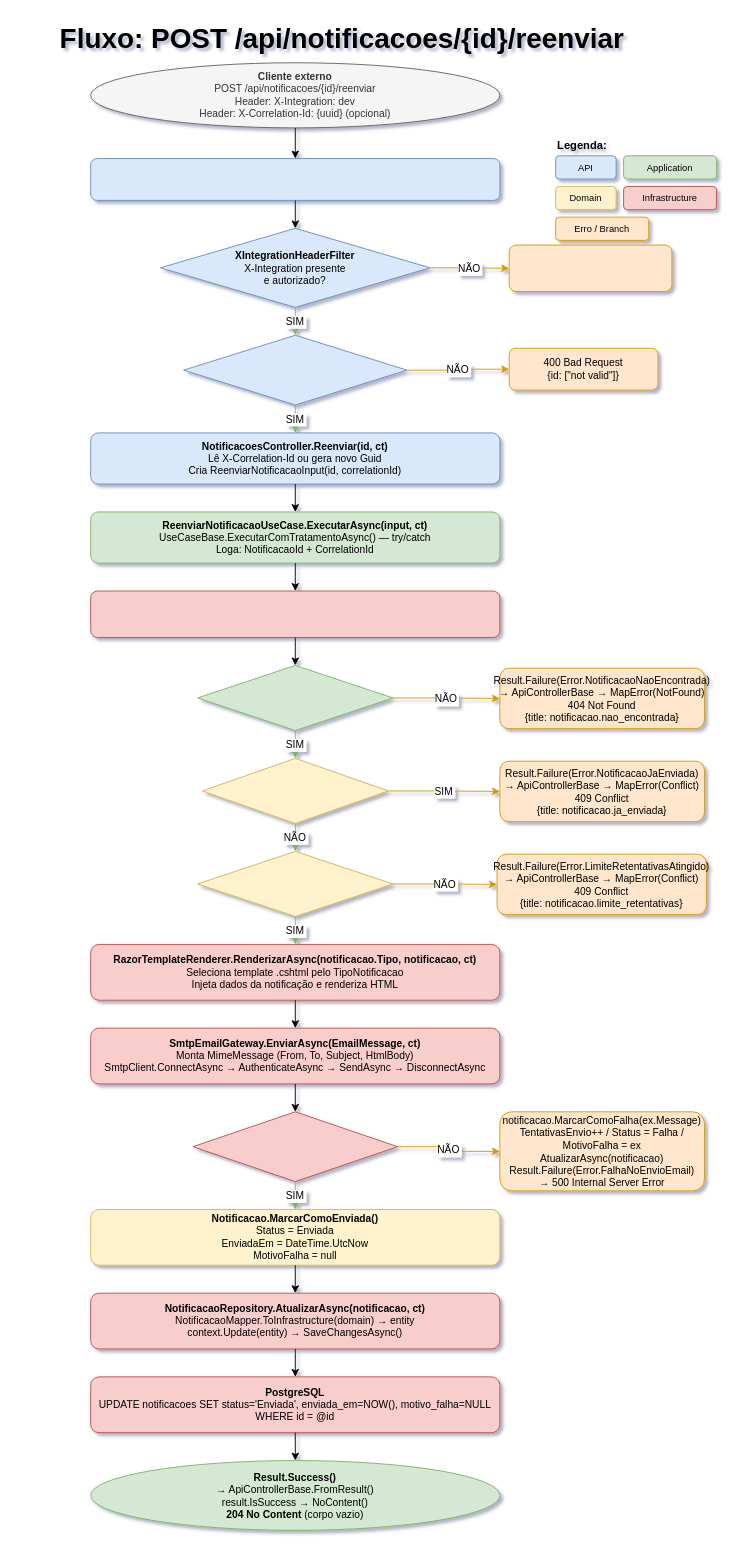
Image size: 738x1552. Some labels were removed from this diagram. The shapes that lost their labels are listed below. From the top down, each one's centre as x and y in pixels, then its label:
At (x=295, y=179): "ExceptionHandlingMiddleware Envolve toda a cadeia".
At (x=590, y=268): "400 Bad Request {error: ausente/não autorizado}".
At (x=295, y=369): "Model Binding {id} é GUID válido?".
At (x=295, y=614): "NotificacaoRepository.ObterPorIdAsync(id, ct) context.Notificacoes.FindAsync(id)".
At (x=295, y=697): "Notificacao encontrada?".
At (x=294, y=790): "Status == Enviada?".
At (x=295, y=883): "PodeRetentar() tentativas < 3?".
At (x=295, y=1146): "E-mail enviado com sucesso?".
